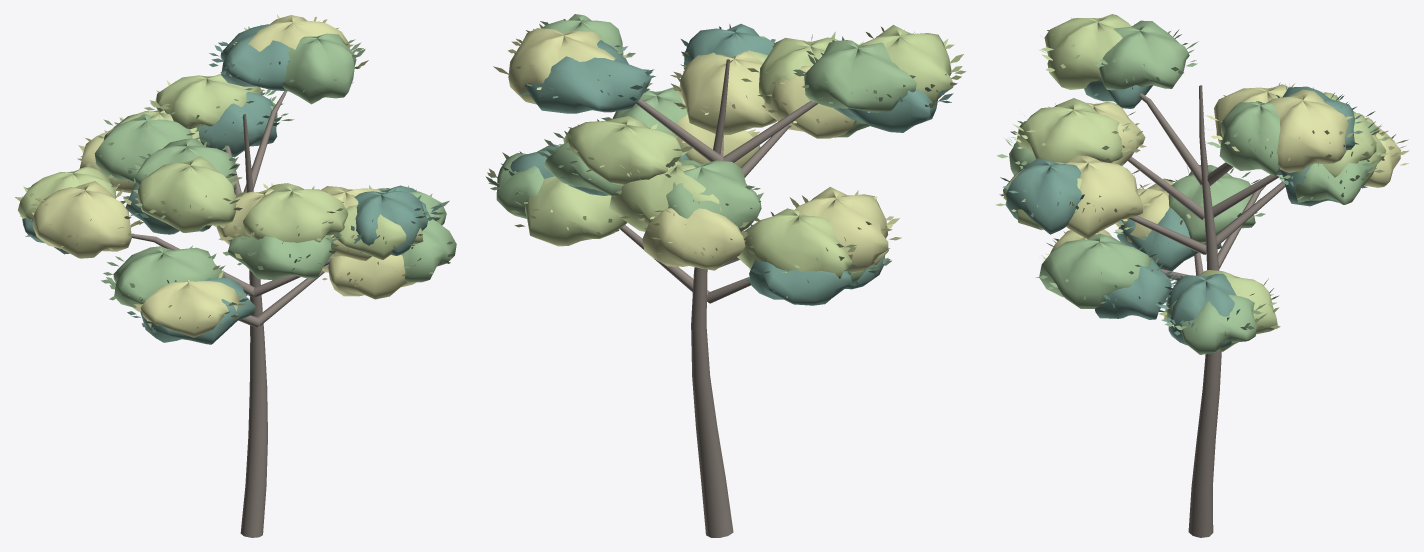
File: maple_low.glb
3 views of the same model, side by side, from view 1: azimuth 30°, elevation 25°; view 2: azimuth 150°, elevation 25°; view 3: azimuth 270°, elevation 25° (orthographic). The views are drawn at different scales.
Visible parts, largest first — view 1: maple_low; view 2: maple_low; view 3: maple_low.
Part boxes in pixels (x1,y1,x2,y2): maple_low: (15,14,456,537); maple_low: (485,14,966,537); maple_low: (996,14,1409,537).
Bounding box in the file's own units: 8.08 × 9.27 × 7.29.
